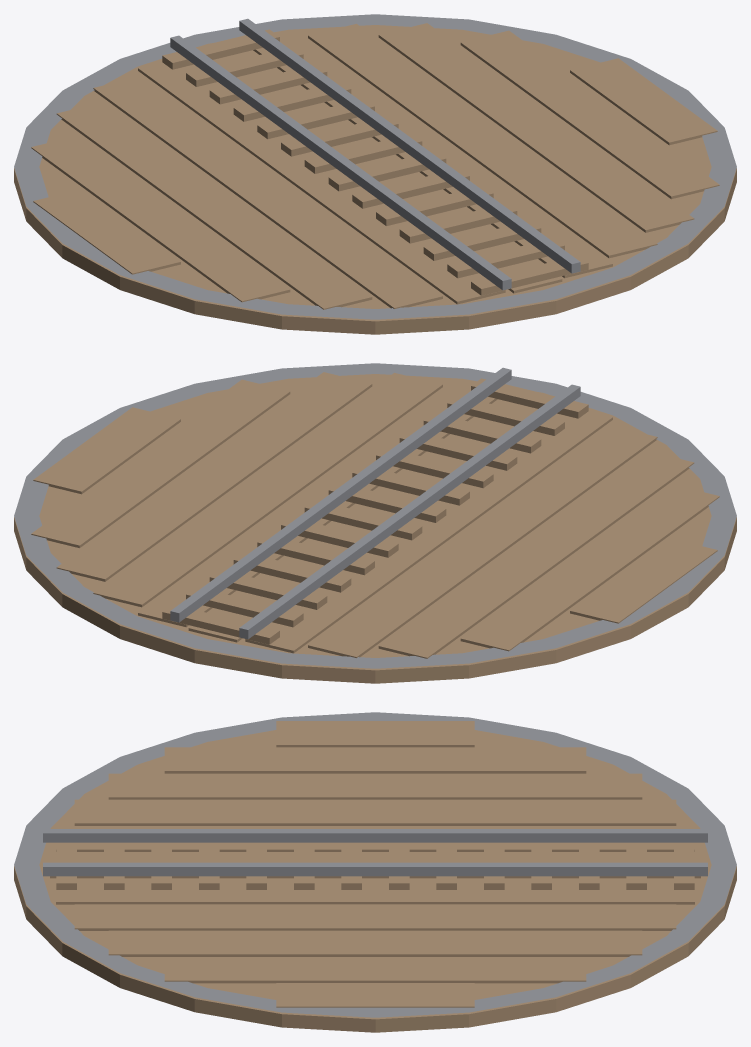
The model's file is rail-table.glb.
3 renders of one model, top to bottom at view 1: azimuth 30°, elevation 25°; view 2: azimuth 150°, elevation 25°; view 3: azimuth 270°, elevation 25°, orthographic.
Parts seen in each view (by area): view 1: rail-table; view 2: rail-table; view 3: rail-table.
Part boxes in pixels (x1=…): rail-table: x1=14, y1=14, x2=736, y2=334; rail-table: x1=14, y1=363, x2=736, y2=683; rail-table: x1=14, y1=712, x2=736, y2=1032.
Size of the model in its own units: 4.9 by 0.24 by 4.9.
